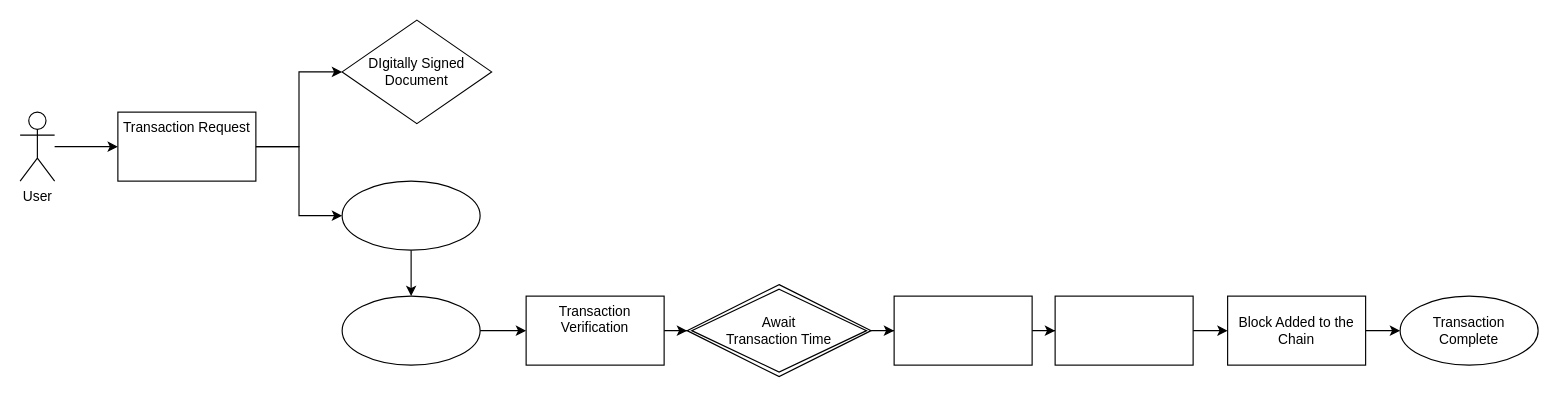
Some shapes in this 1558 by 397 pixel diagram are drawn without their labels. The shapes that lost their labels are listed below. From the top down, each one's centre as x and y in pixels, then its label:
the point at 410,215: Transaction Broadcast
the point at 410,330: Nodes Receive Message
the point at 962,330: Block Creation
the point at 1123,330: Block Validation
